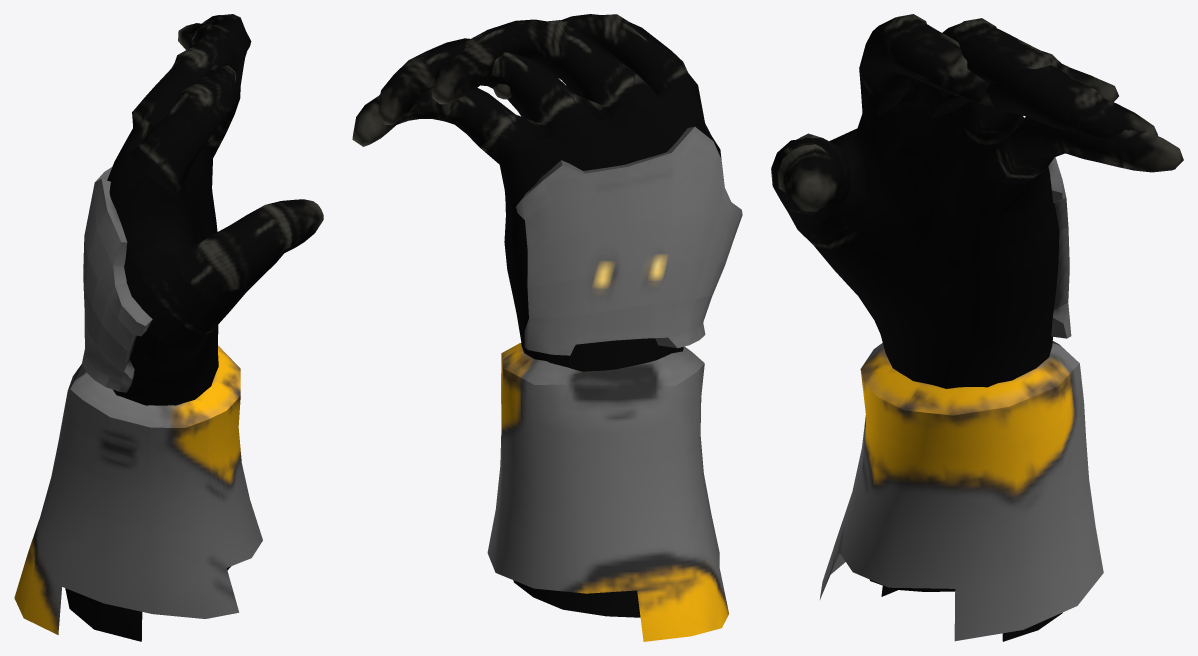
Rendered from viewmodel_arm_l.gltf.
The picture shows the model from 3 angles, left to right: view 1: azimuth 30°, elevation 25°; view 2: azimuth 150°, elevation 25°; view 3: azimuth 270°, elevation 25°; orthographic projection. The views are drawn at different scales.
Parts seen in each view (by area): view 1: trooper_viewmodel_arm_l; view 2: trooper_viewmodel_arm_l; view 3: trooper_viewmodel_arm_l.
Part boxes in pixels (x1,y1,x2,y2): trooper_viewmodel_arm_l: (14, 14, 323, 641); trooper_viewmodel_arm_l: (352, 14, 742, 641); trooper_viewmodel_arm_l: (771, 14, 1183, 641).
Bounding box in the file's own units: 0.155 × 0.2878 × 0.1704.
Materials: 2 (2 with a texture image).
